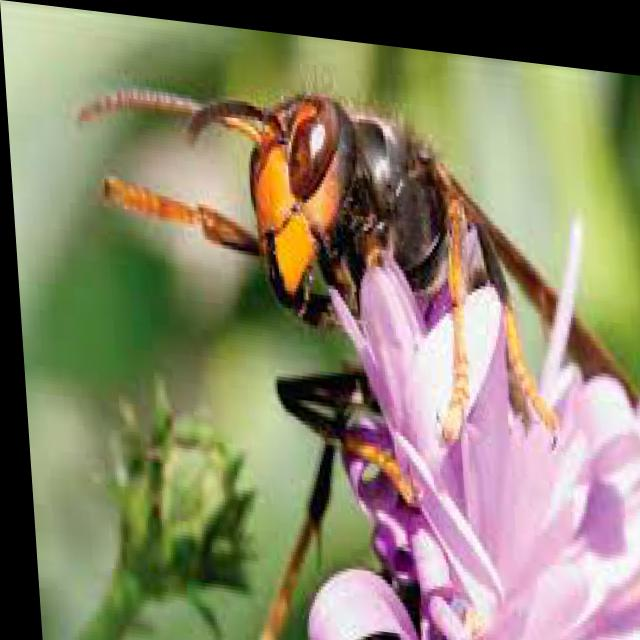Vespa Velutina: (64, 40, 639, 639)
